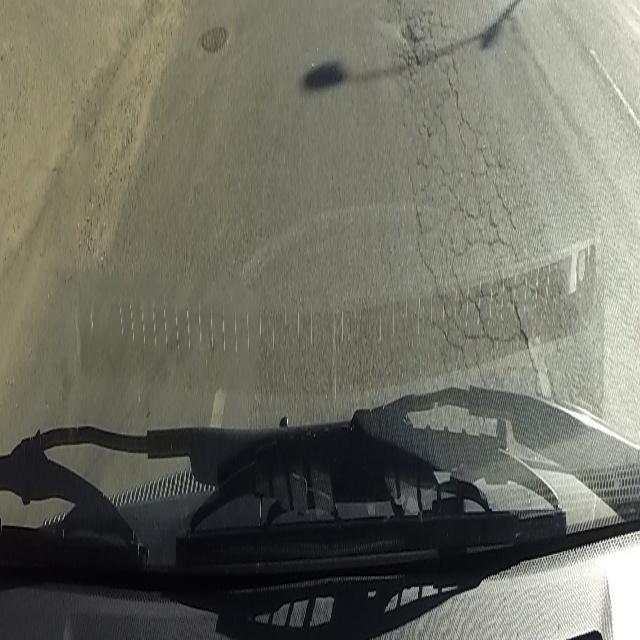pothole: (438, 283, 543, 364), (396, 8, 449, 81)
